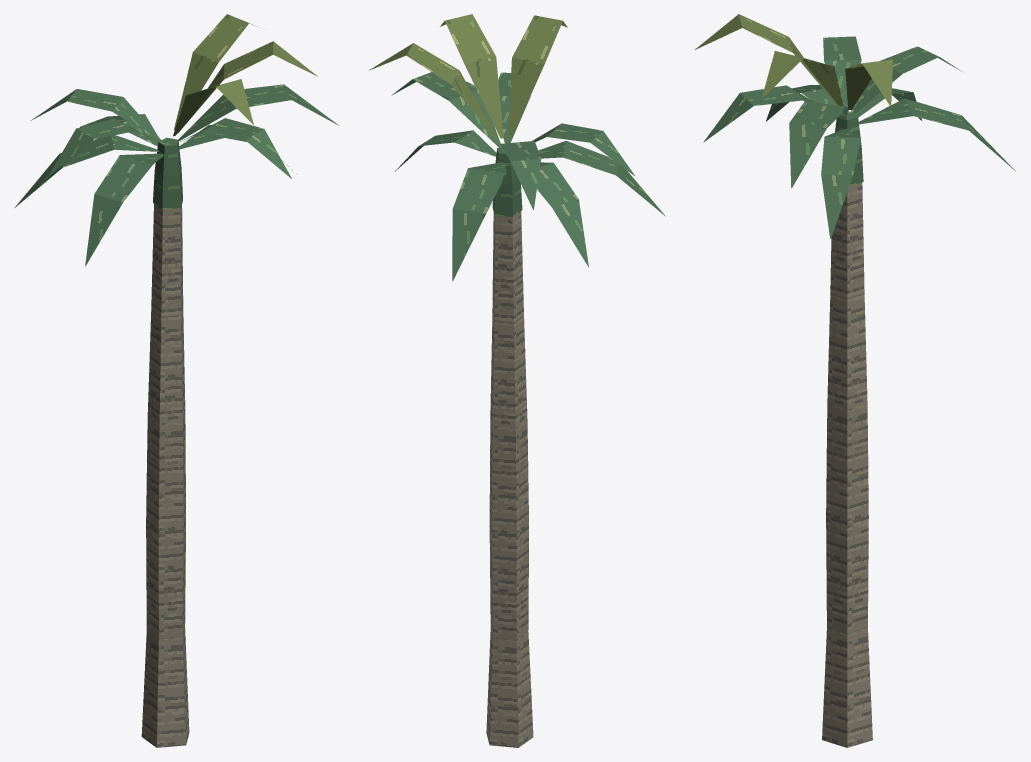
The model's file is royal-mid.glb.
The picture shows the model from 3 angles, left to right: view 1: azimuth 30°, elevation 25°; view 2: azimuth 150°, elevation 25°; view 3: azimuth 270°, elevation 25°; orthographic projection. The views are drawn at different scales.
Parts seen in each view (by area): view 1: trunk_royal-mid, crown_royal-mid; view 2: trunk_royal-mid, crown_royal-mid; view 3: trunk_royal-mid, crown_royal-mid.
Part boxes in pixels (left/top/right/bottom): trunk_royal-mid: left=141, top=137, right=189, bottom=747; crown_royal-mid: left=14, top=14, right=339, bottom=266; trunk_royal-mid: left=486, top=147, right=533, bottom=747; crown_royal-mid: left=369, top=14, right=665, bottom=281; trunk_royal-mid: left=822, top=111, right=872, bottom=747; crown_royal-mid: left=695, top=14, right=1015, bottom=238.
Size of the model in its own units: 7.34 by 17.99 by 7.28.
2 materials, 2 textured.
